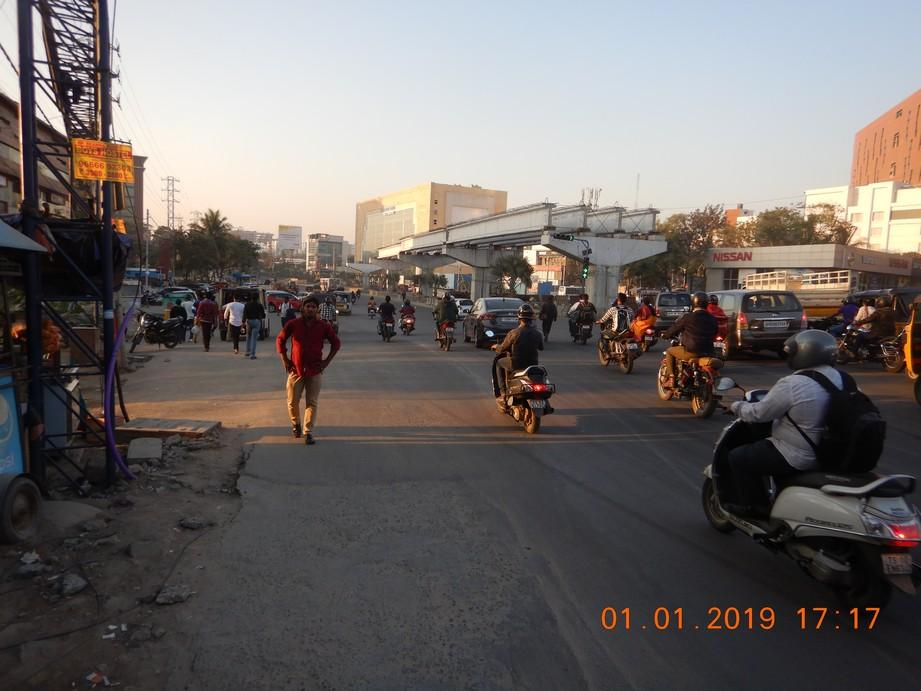plate: (881, 553, 914, 574), (529, 398, 547, 409)
